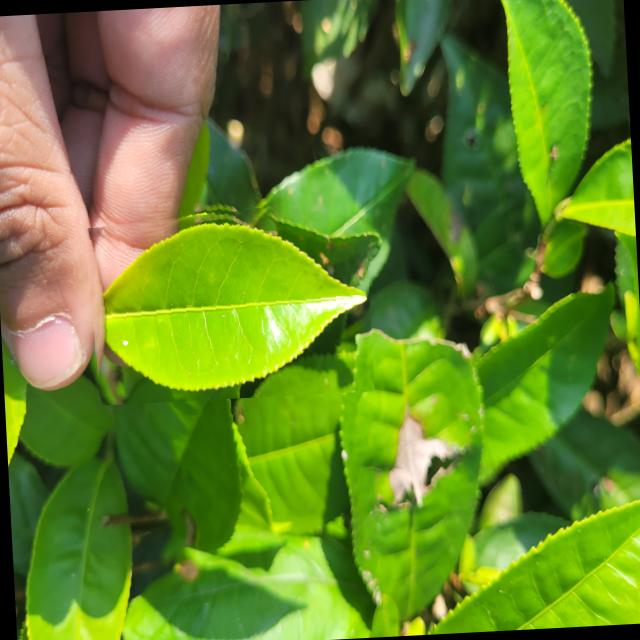Catagory A(1-2 days): (82, 196, 374, 406)
